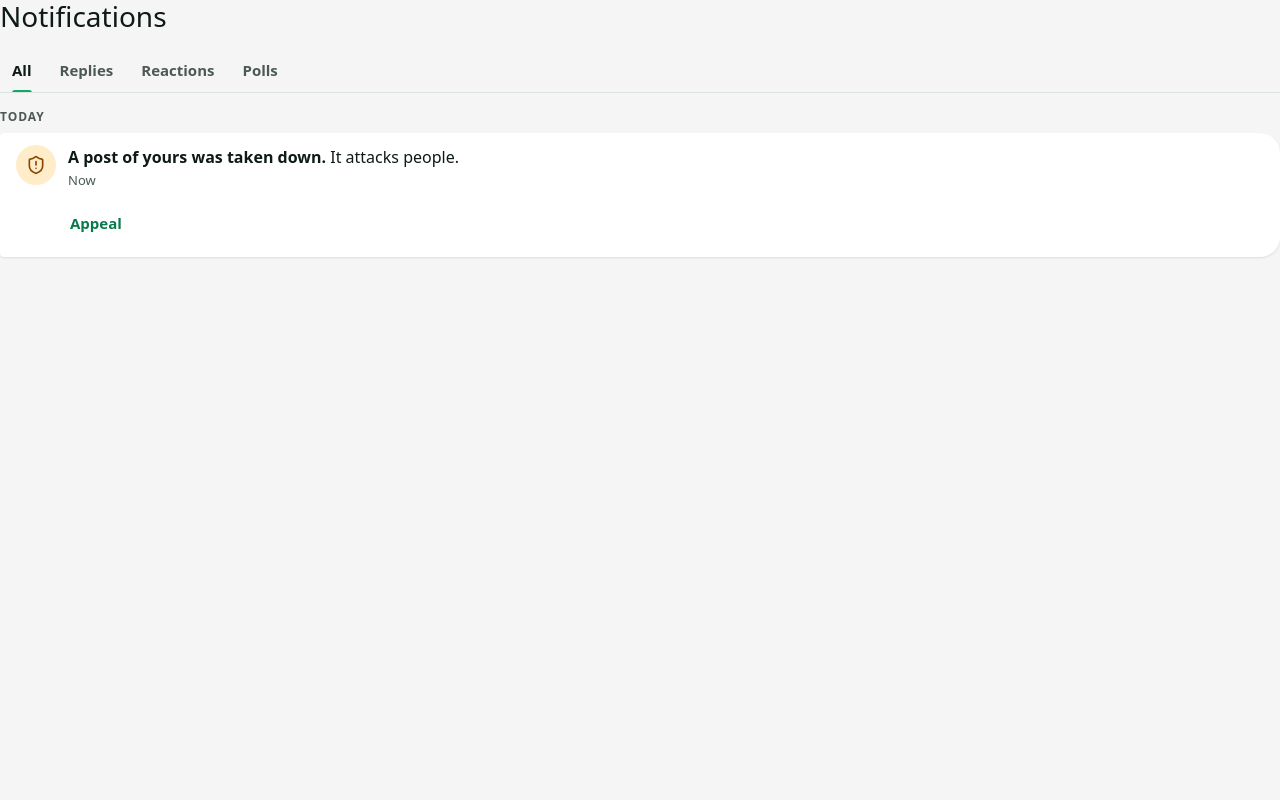
Test case: RW2: Appeal on a notice › WF-5: the sheet's sent state says 'Another moderator will look again.' once
The width and height of the screenshot is (1280, 800).
Click the button "Appeal": (96,223) [68,201,124,245]
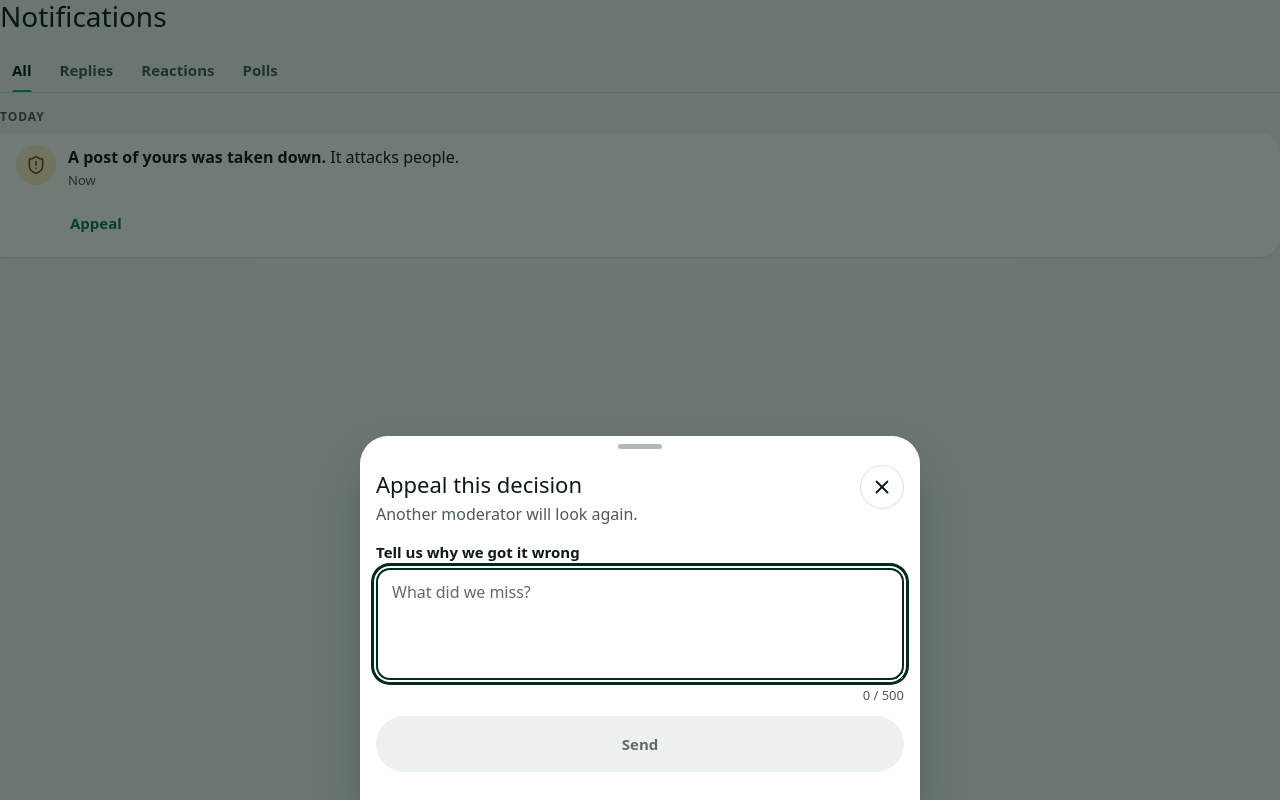
Check: the text "Another moderator will look again." is shown once, box [376,503,638,525]
In the text box labelled "Tell us why we got it wrong": (640,624) [376,568,904,680], type "Please look again."
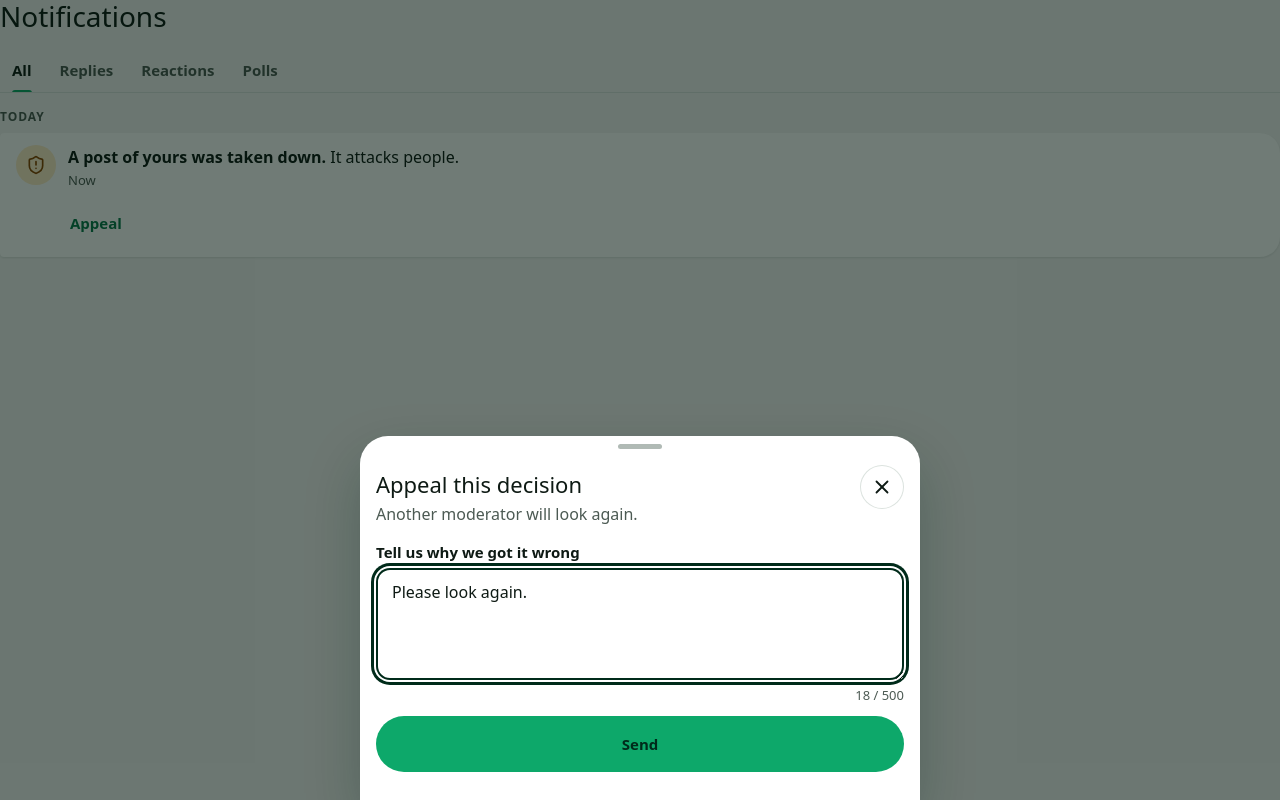
Click the button "Send": (640,744) [376,716,904,772]
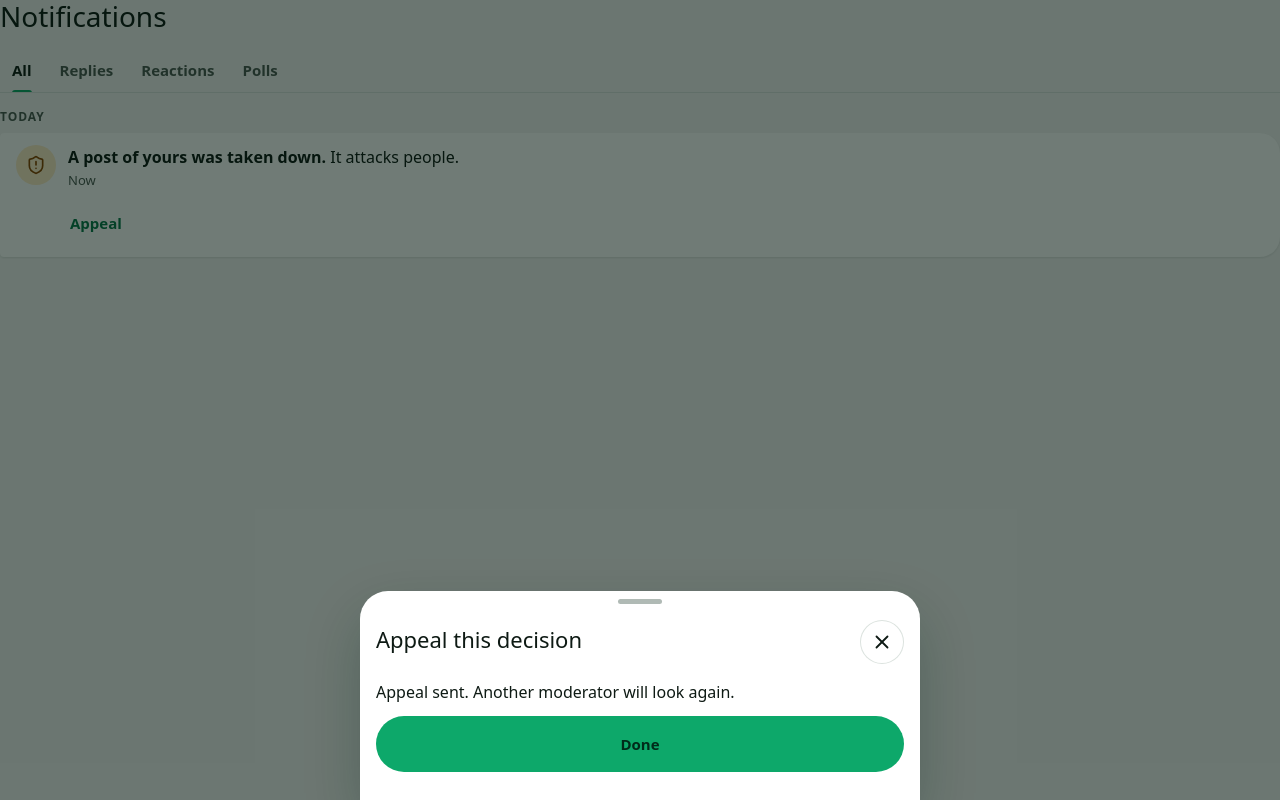
Check: the button "Done" is shown, box [376,716,904,772]
